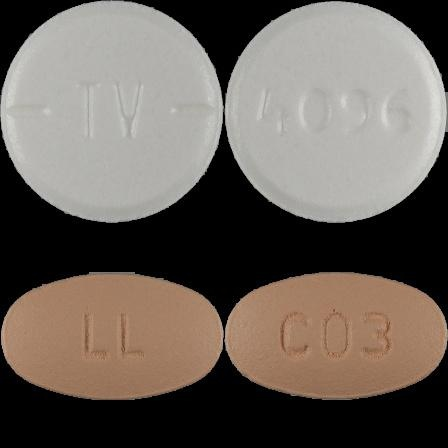61786-640: (0, 0, 224, 224)
